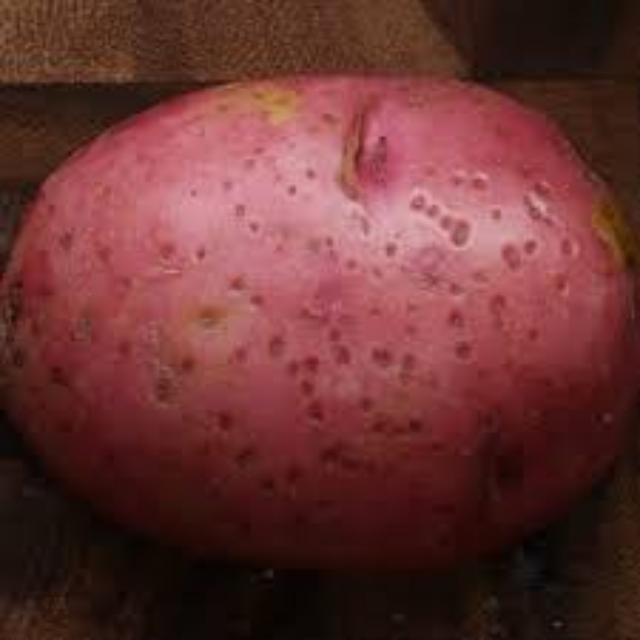Defected potato: (0, 59, 640, 582)
